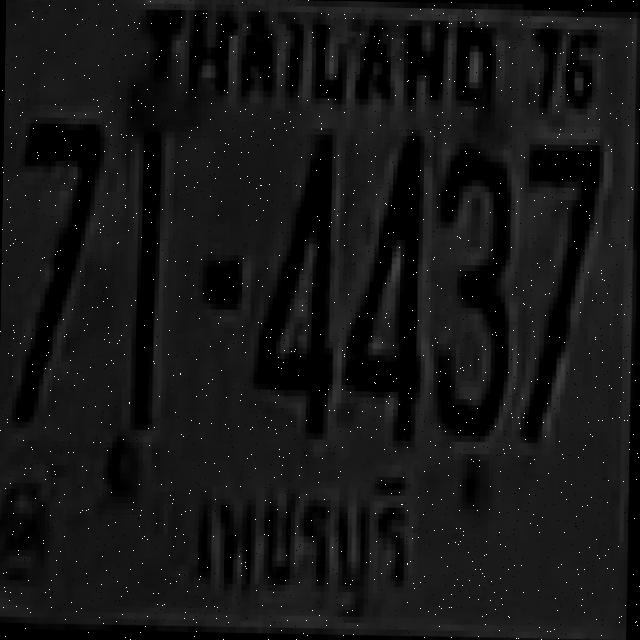3: (428, 139, 508, 433)
4: (250, 127, 334, 433), (342, 128, 422, 434)
7: (16, 120, 100, 408), (520, 138, 600, 432), (522, 137, 600, 346), (18, 117, 100, 307), (522, 138, 600, 322)
Phetchaburi: (188, 467, 422, 625)
